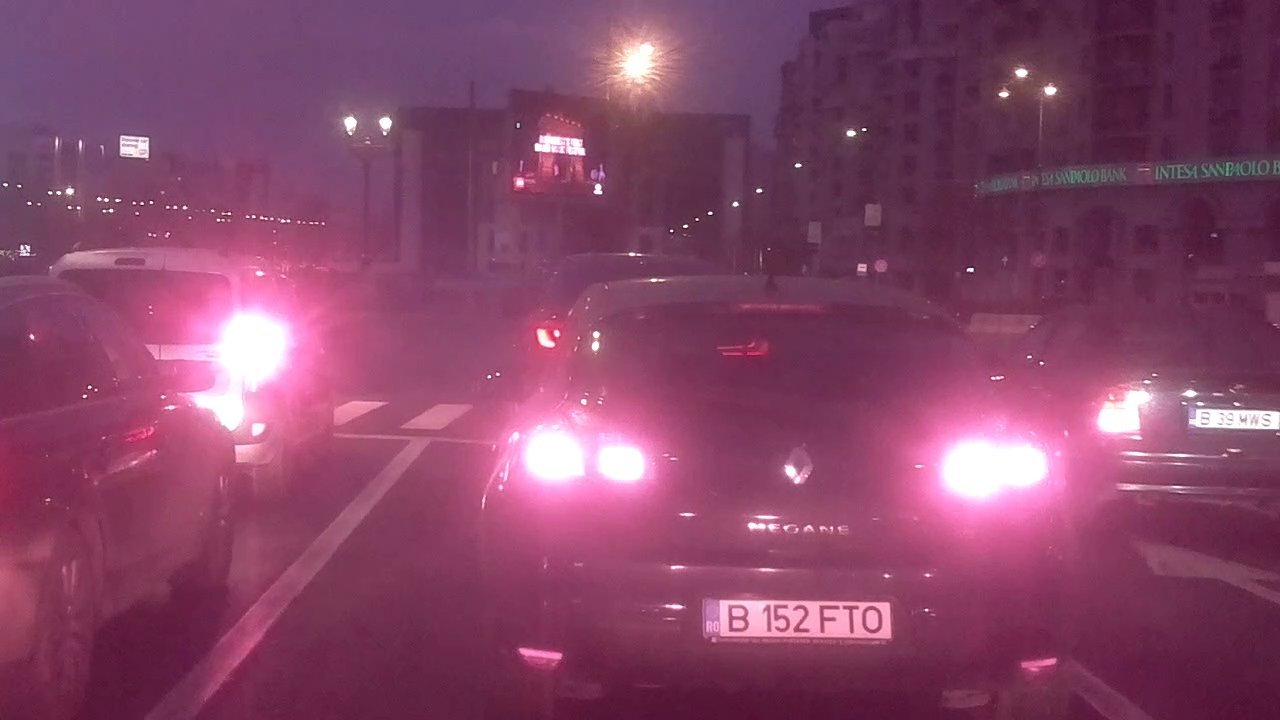license-plate: (691, 592, 900, 646), (1185, 404, 1280, 433)
